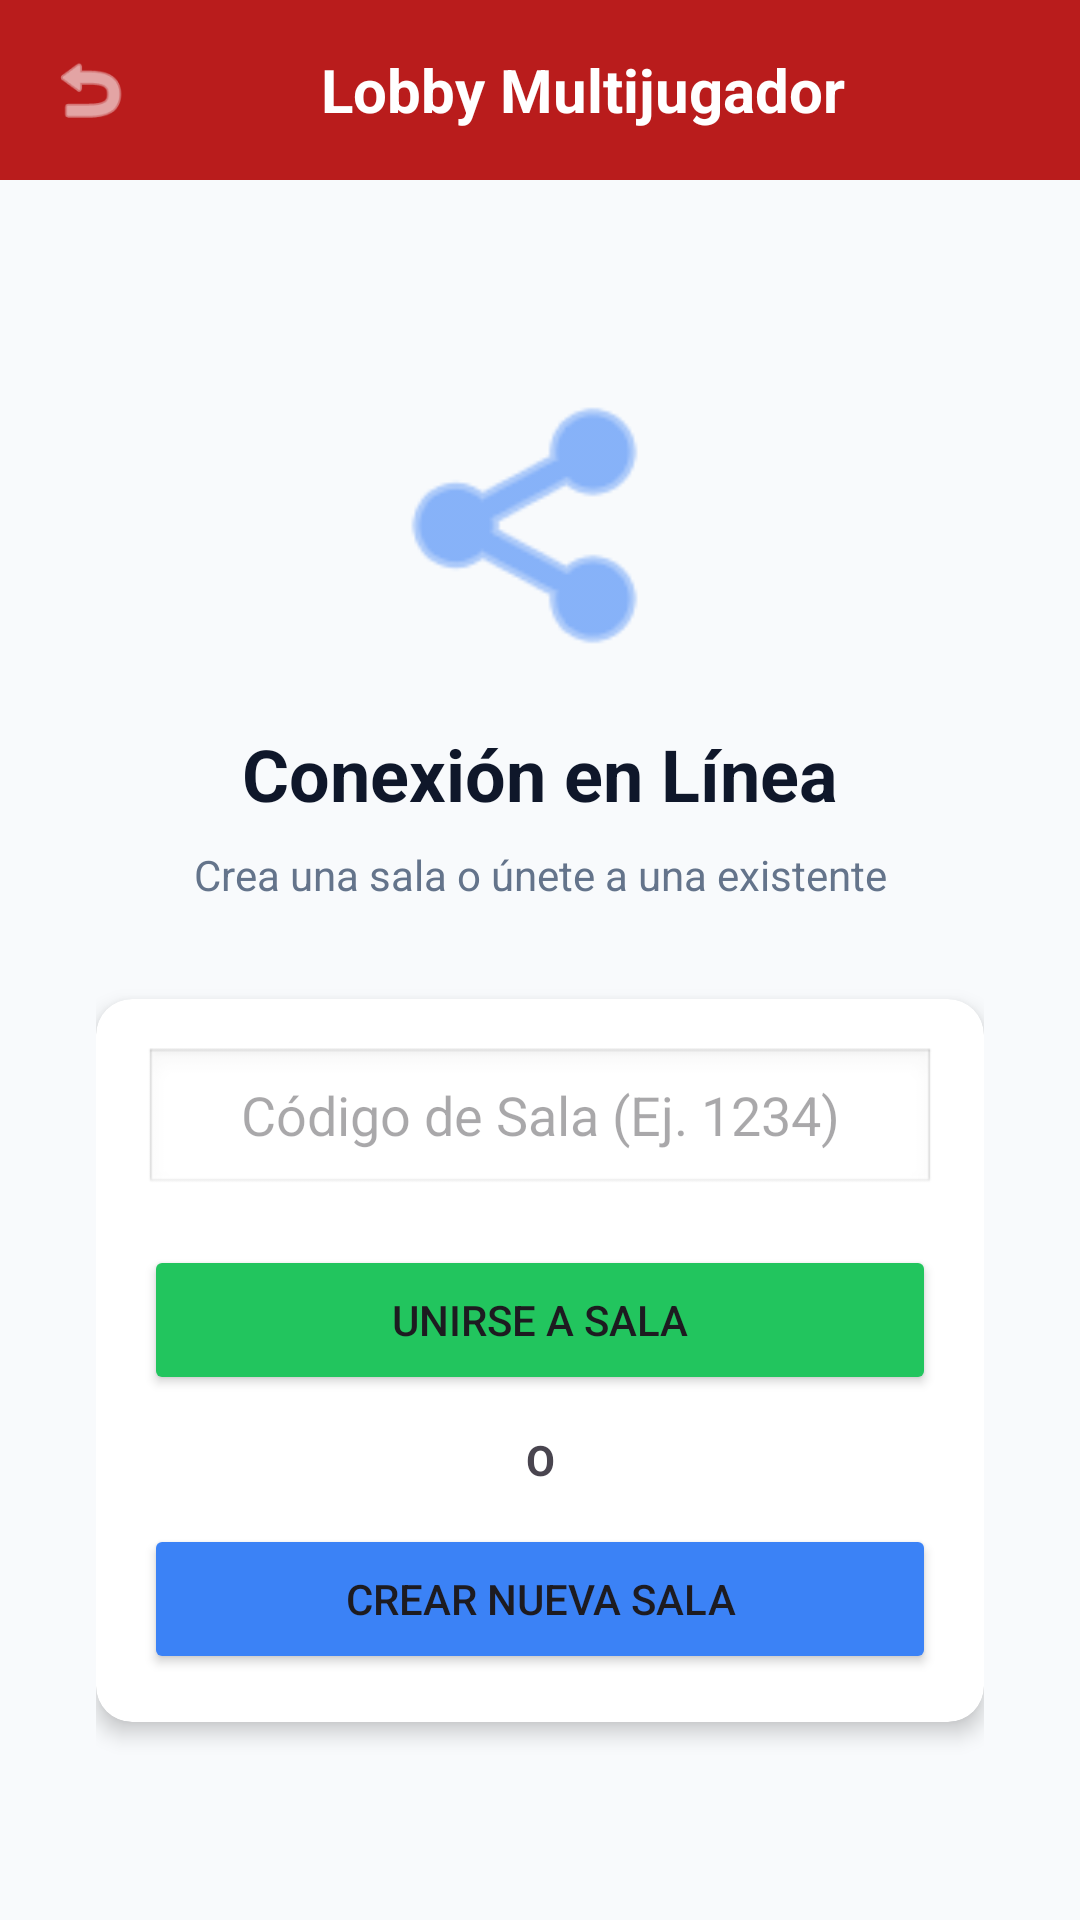

Where icons sit on this 1080px×1920px app screen, as (x1, y1, x2, y2):
revert: (61, 63, 121, 118)
share: (412, 408, 637, 643)
